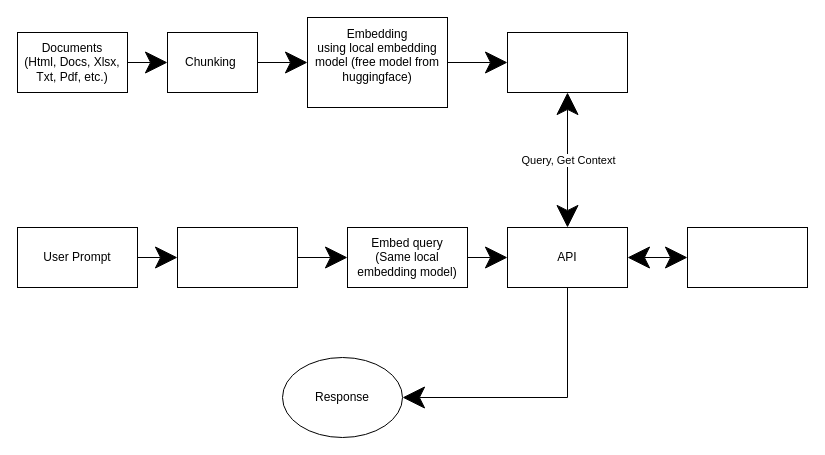
Some shapes in this 825 by 455 pixel diagram are drawn without their labels. The centre of each missing label's shape, as x and y in pixels:
"LLM (Google AI Studio)" goes at point (747, 257).
"Preprocess prompt" goes at point (237, 257).
"Vector Database (ChromaDB for local database)" goes at point (567, 62).
